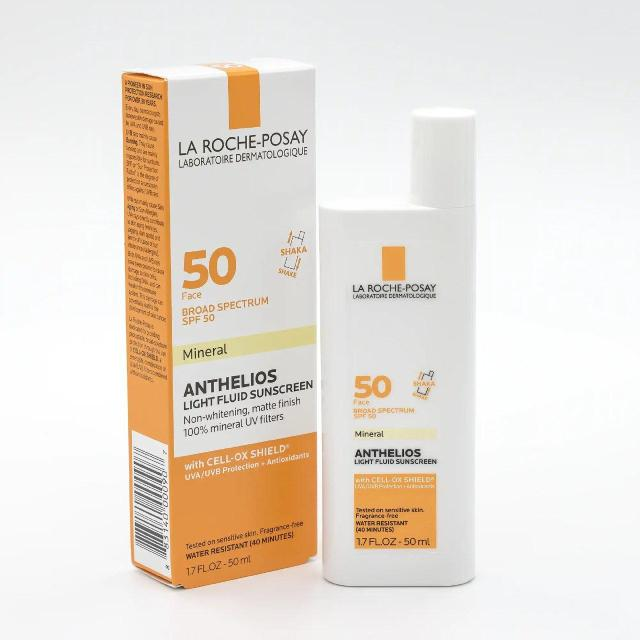cosmotic: (162, 87, 308, 573), (326, 203, 466, 580)
